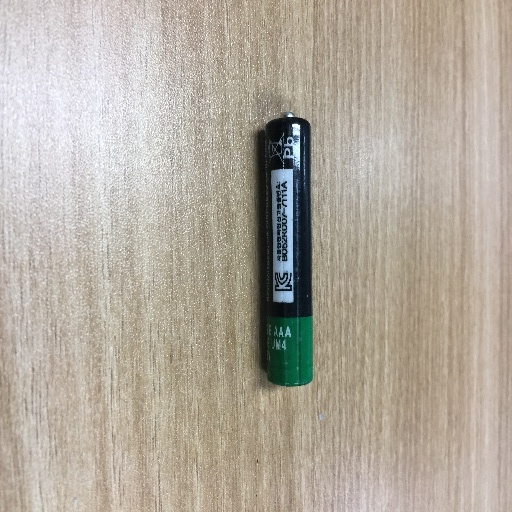Battery_0: (232, 106, 335, 400)
